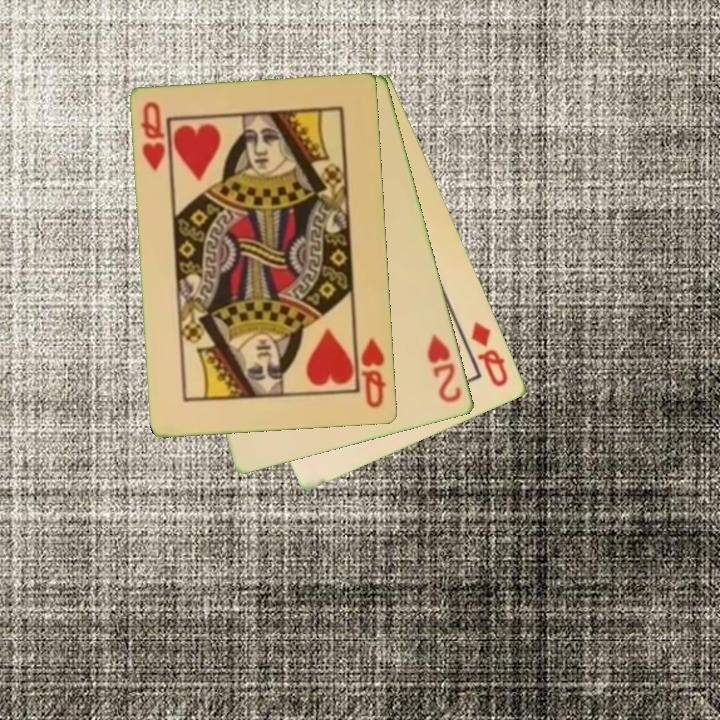2h: (424, 331, 465, 406)
Qd: (467, 318, 512, 390)
Qh: (357, 334, 389, 411), (137, 98, 169, 175)
